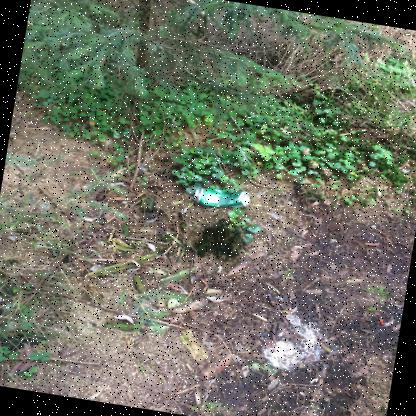Drink can: (193, 188, 249, 207)
